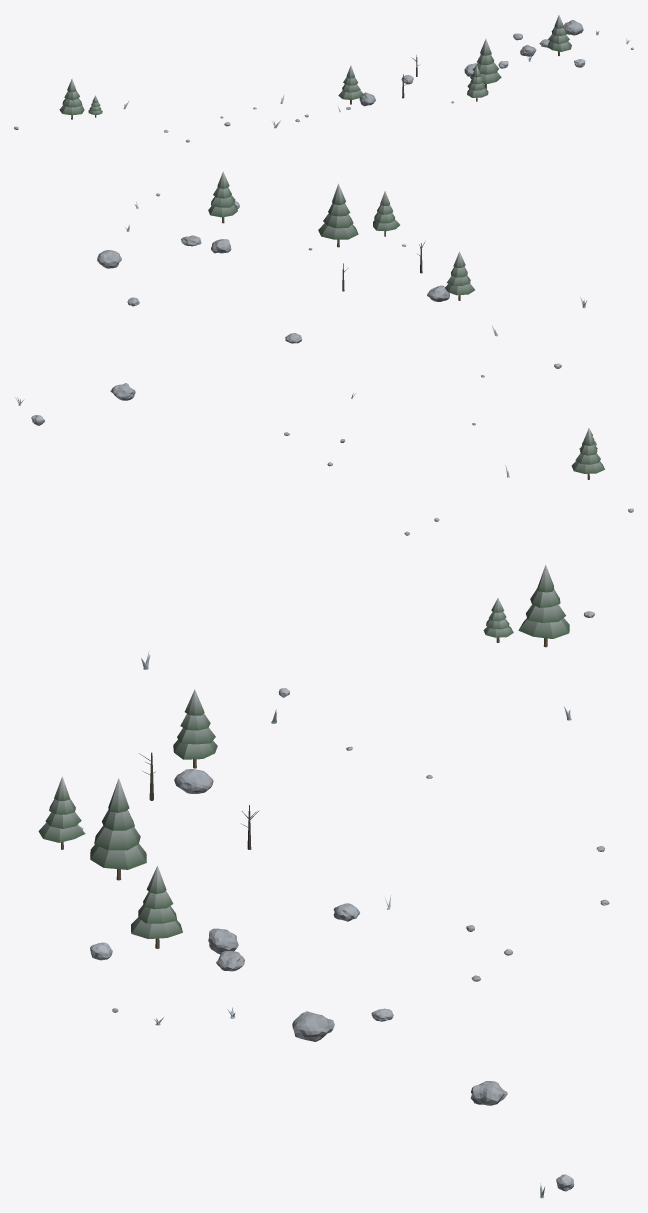
The model's file is frost_land_scatter_c18_08.glb.
The picture shows the model from 3 angles, top to bottom: view 1: azimuth 30°, elevation 25°; view 2: azimuth 150°, elevation 25°; view 3: azimuth 270°, elevation 25°; orthographic projection. The views are drawn at different scales.
Parts seen in each view (by area): view 1: frost_land_scatter_c18_08; view 2: frost_land_scatter_c18_08; view 3: frost_land_scatter_c18_08.
Boxes of the visible parts, <box> form: frost_land_scatter_c18_08: <box>14,15,633,142</box>; frost_land_scatter_c18_08: <box>15,171,633,535</box>; frost_land_scatter_c18_08: <box>38,565,609,1198</box>.
Size of the model in its own units: 170 by 48.1 by 83.1.
